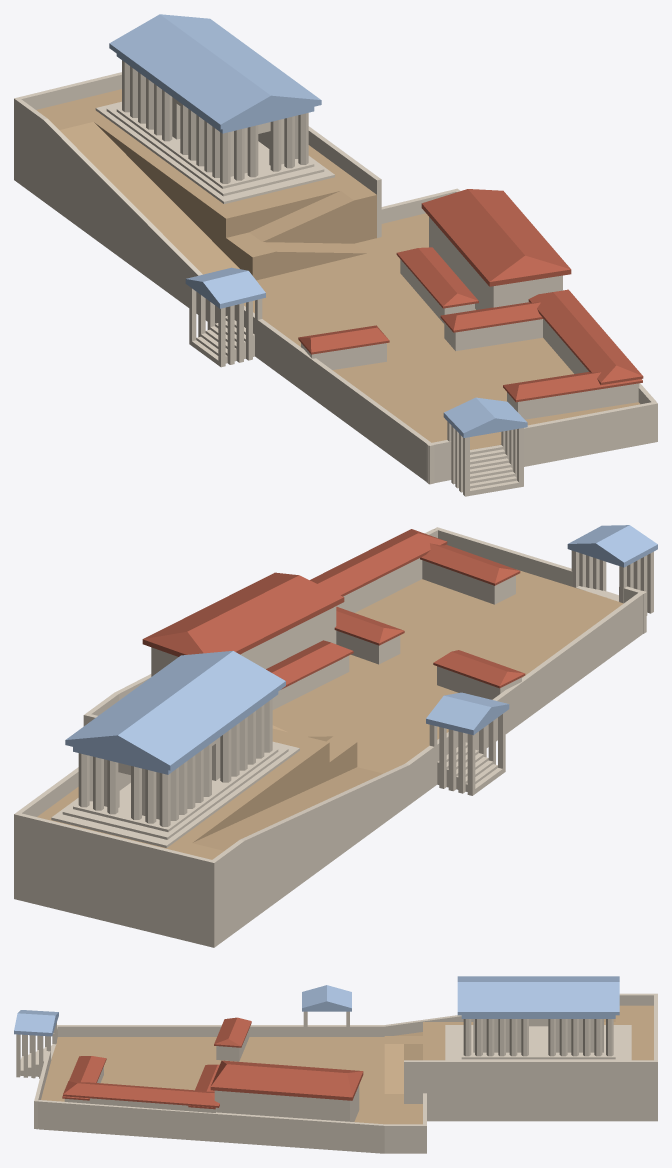
File: city.fbx
The picture shows the model from 3 angles, top to bottom: view 1: azimuth 30°, elevation 25°; view 2: azimuth 150°, elevation 25°; view 3: azimuth 270°, elevation 25°; orthographic projection. The views are drawn at different scales.
Parts seen in each view (by area): view 1: Cube.043; view 2: Cube.043; view 3: Cube.043.
Boxes of the visible parts, x1,y1,x2,y2 form: Cube.043: (14, 14, 657, 496); Cube.043: (14, 525, 657, 947); Cube.043: (14, 976, 657, 1153).
Bounding box in the file's own units: 14100 × 6500 × 33457.
